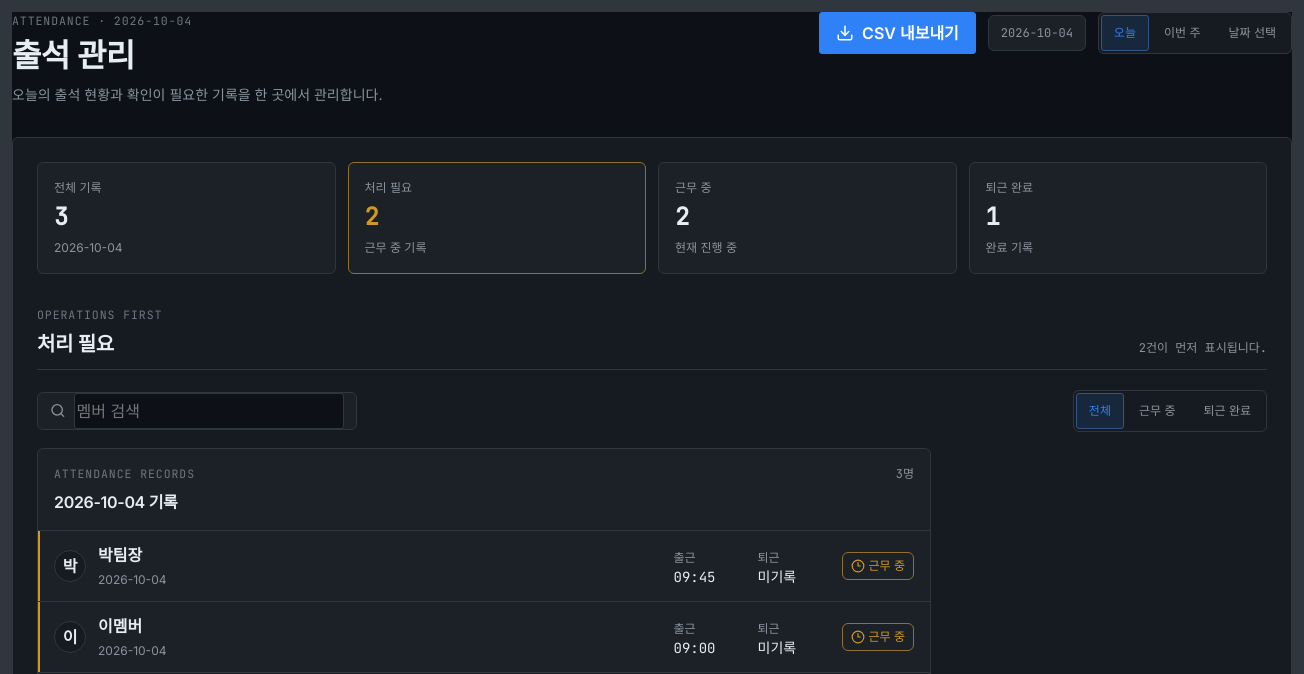
Test: Attendance 페이지 › 관리자 날짜 범위가 설명과 운영 기록 제목에 반영된다
This screenshot has width=1304, height=674.
Click the button "이번 주".
click(1182, 33)  # box x1=1151 y1=15 x2=1214 y2=51
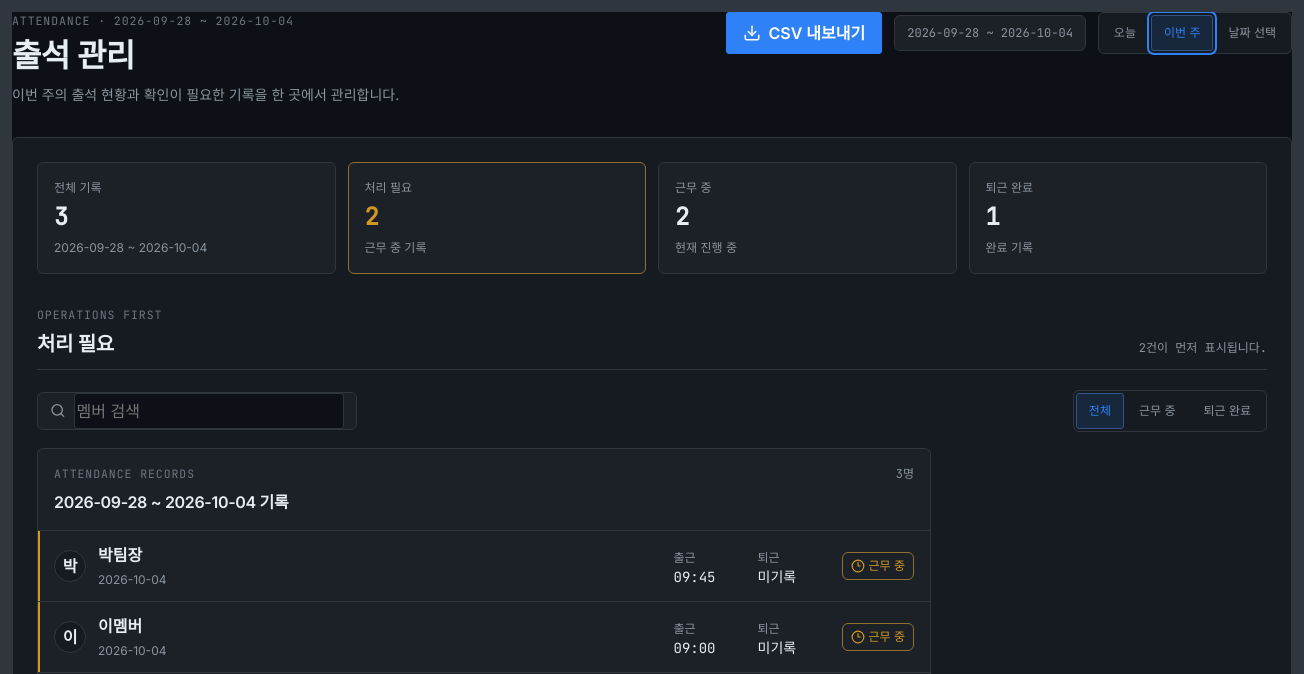
Check: the header shows "이번 주의 출석 현황과 확인이 필요한 기록", box x1=12 y1=86 x2=268 y2=103
